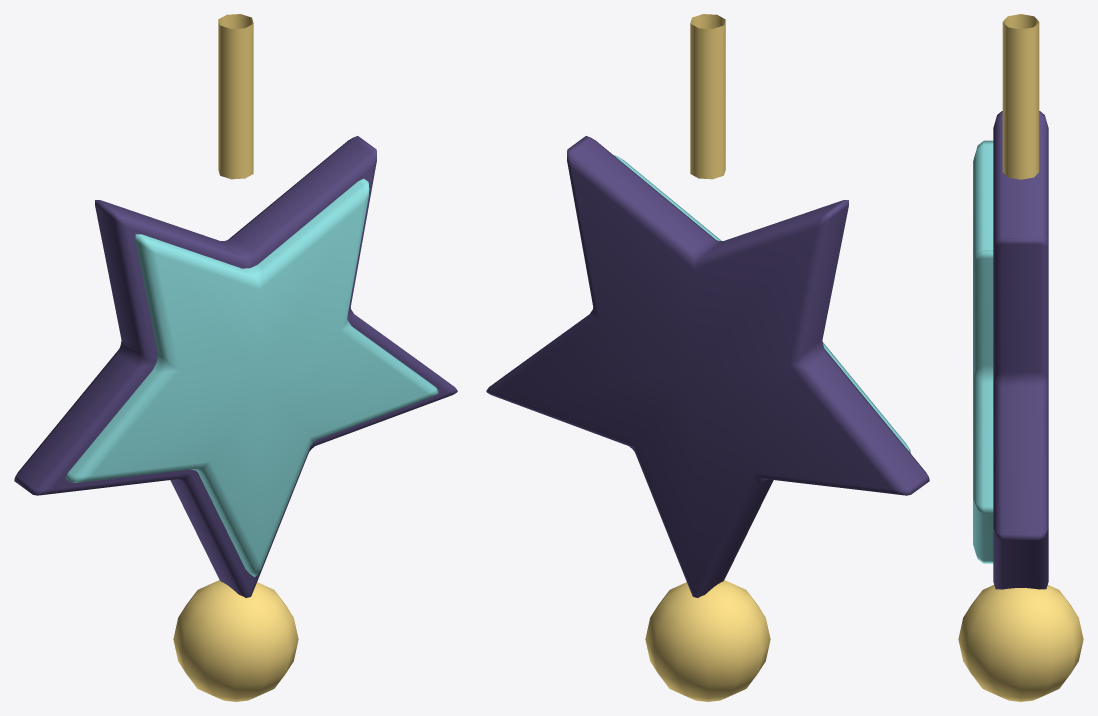
Rendered from star_bell_1.glb.
The picture shows the model from 3 angles, left to right: view 1: azimuth 30°, elevation 25°; view 2: azimuth 150°, elevation 25°; view 3: azimuth 270°, elevation 25°; orthographic projection.
Visible parts, largest first — view 1: StarFace.002, StarInk.002, Clapper.001, Hanger.001; view 2: StarInk.002, Clapper.001, Hanger.001, StarFace.002; view 3: StarInk.002, Clapper.001, StarFace.002, Hanger.001.
Boxes of the visible parts, x1,y1,x2,y2 form: StarFace.002: (65,178,438,576); StarInk.002: (14,136,457,597); Clapper.001: (173,580,298,701); Hanger.001: (218,14,253,179); StarInk.002: (486,136,929,597); Clapper.001: (645,580,770,701); Hanger.001: (690,14,725,179); StarFace.002: (614,155,910,453); StarInk.002: (993,111,1048,589); Clapper.001: (958,585,1083,701); StarFace.002: (973,140,993,563); Hanger.001: (1002,14,1039,179).
Size of the model in its own units: 2.66 by 4.04 by 0.68.
